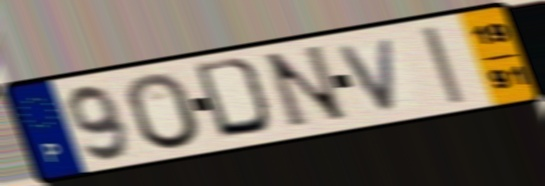9: (63, 81, 133, 163)
D: (190, 54, 280, 141)
I: (416, 22, 469, 107)
N: (260, 42, 355, 134)
O: (123, 71, 205, 153)
V: (334, 33, 402, 115)
